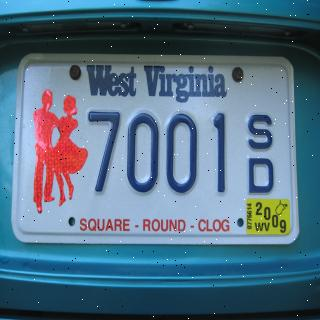license: (12, 54, 301, 248)
